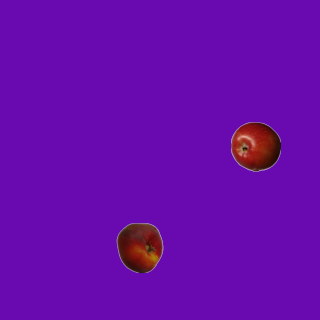Apple Braeburn: (230, 121, 280, 171)
Nectarine Flat: (114, 222, 164, 272)
